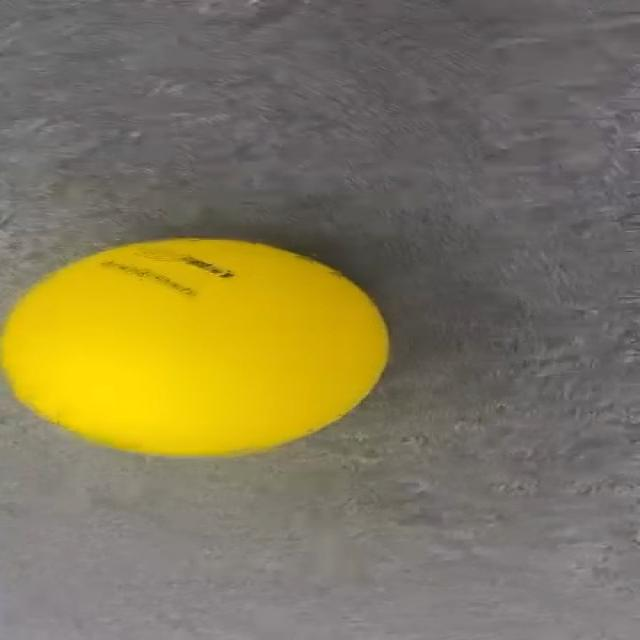Fuels: (0, 238, 388, 454)
